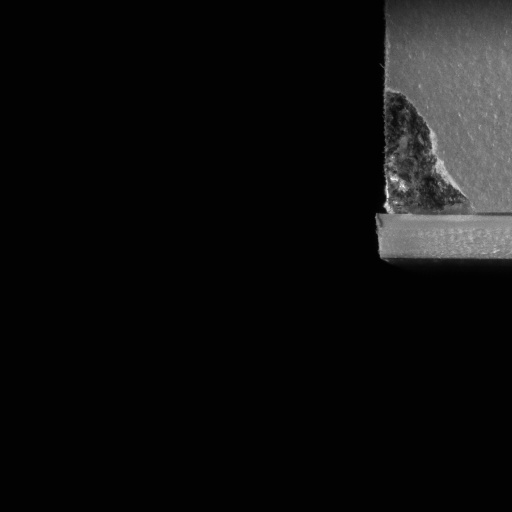bengque: (377, 92, 483, 220)
